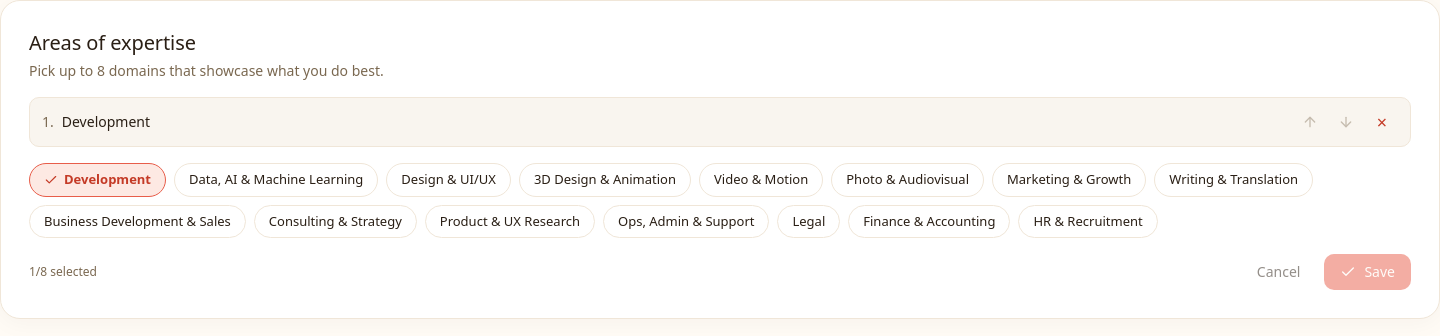
ExpertiseEditor › removing an item from the selected list via the X button
Click the button named "Remove Development". click: (1382, 122)
box: x1=1366 y1=106 x2=1398 y2=138
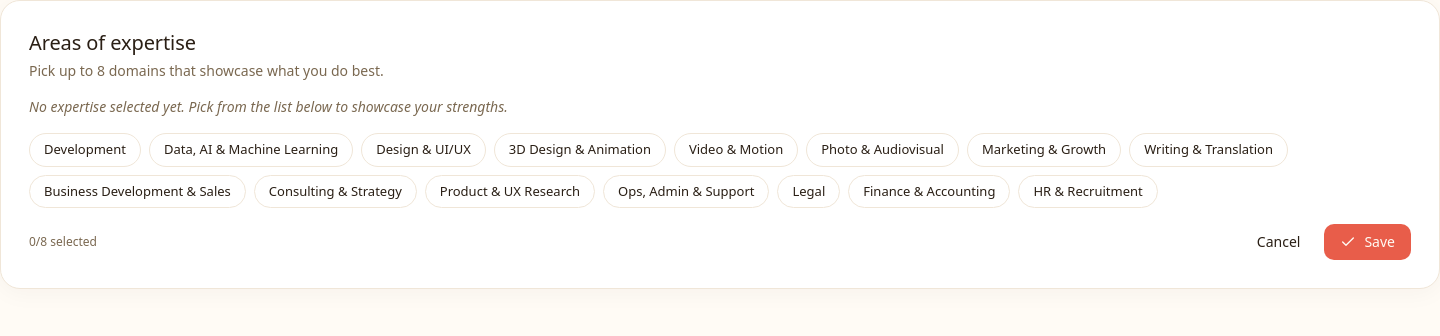
expect the text "0/8 selected" is shown: met, box x1=29 y1=234 x2=97 y2=250
